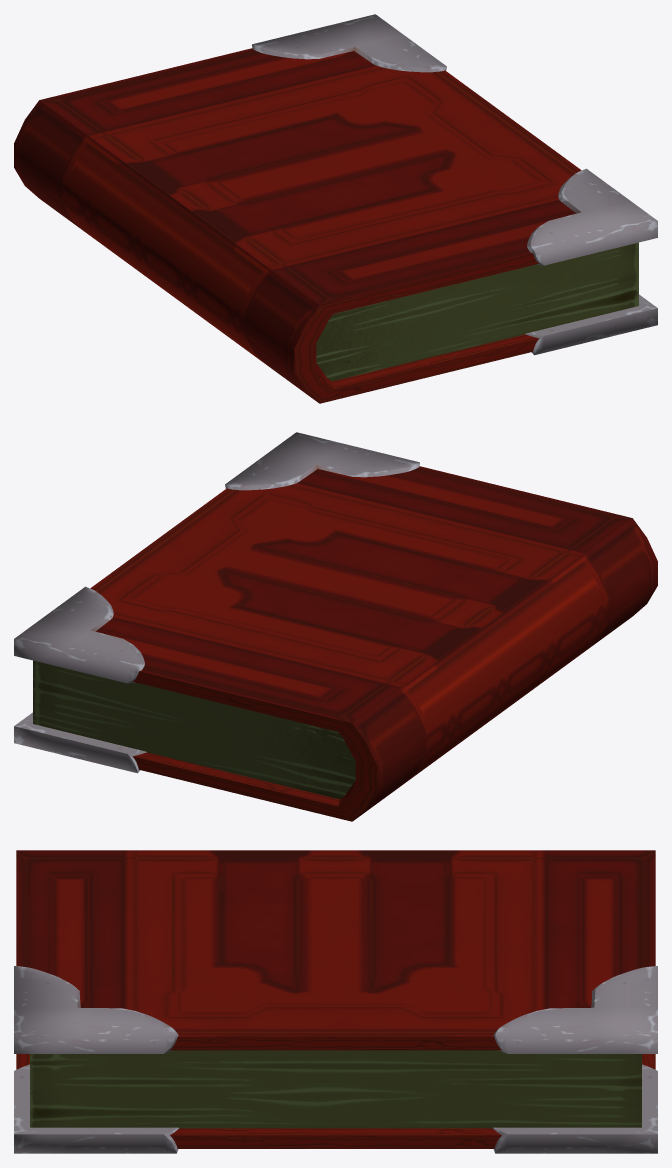
Rendered from Book_7.gltf.
3 renders of one model, top to bottom at view 1: azimuth 30°, elevation 25°; view 2: azimuth 150°, elevation 25°; view 3: azimuth 270°, elevation 25°, orthographic. The views are drawn at different scales.
Parts seen in each view (by area): view 1: Book_7; view 2: Book_7; view 3: Book_7.
Boxes of the visible parts, <box> form: Book_7: <box>14,14,657,403</box>; Book_7: <box>14,432,657,821</box>; Book_7: <box>14,850,657,1153</box>.
Size of the model in its own units: 0.247 by 0.0679 by 0.3333.
Materials: 2 (2 with a texture image).
